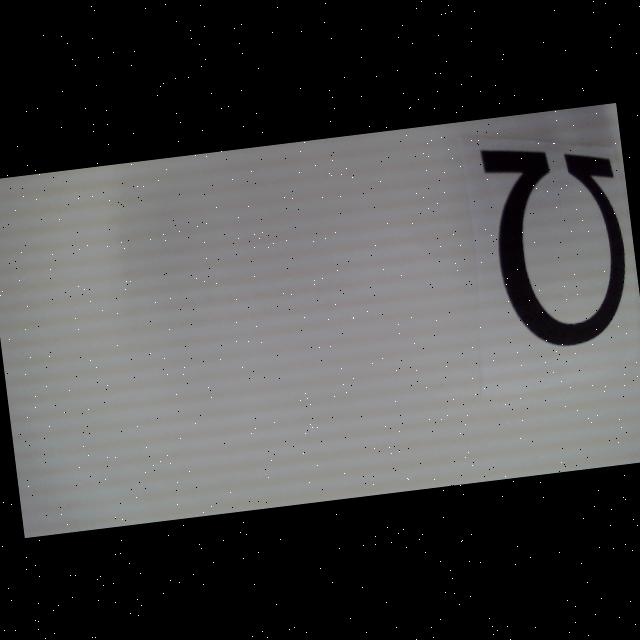OMEGA: (480, 134, 634, 353)
